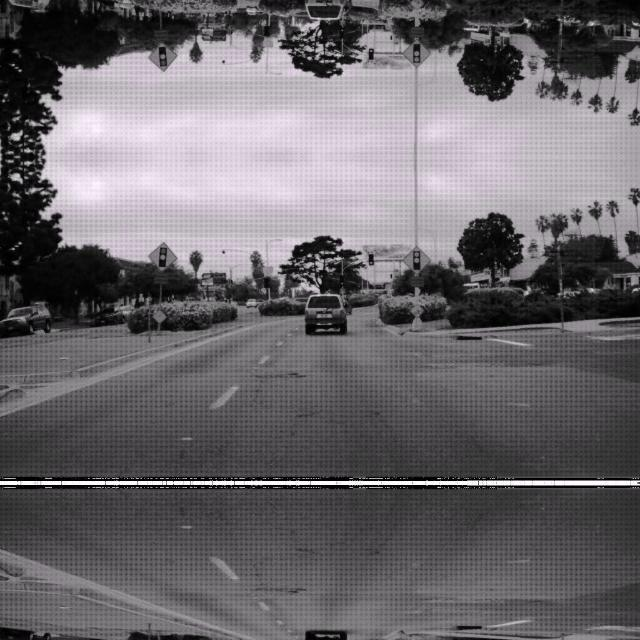signalAhead: (146, 240, 178, 272), (146, 40, 178, 72), (400, 244, 430, 274), (400, 38, 430, 68)
